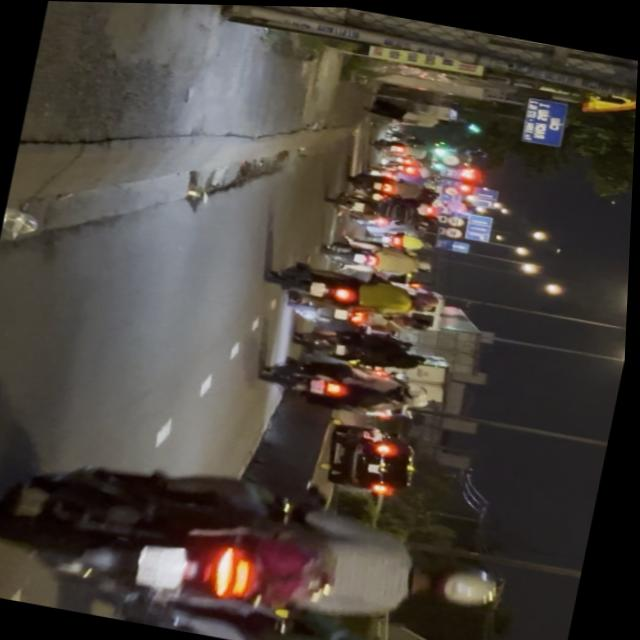helmet: (414, 556, 508, 614)
licenseplate: (0, 430, 521, 640), (58, 565, 468, 640)
nohelmet: (140, 542, 194, 593)
